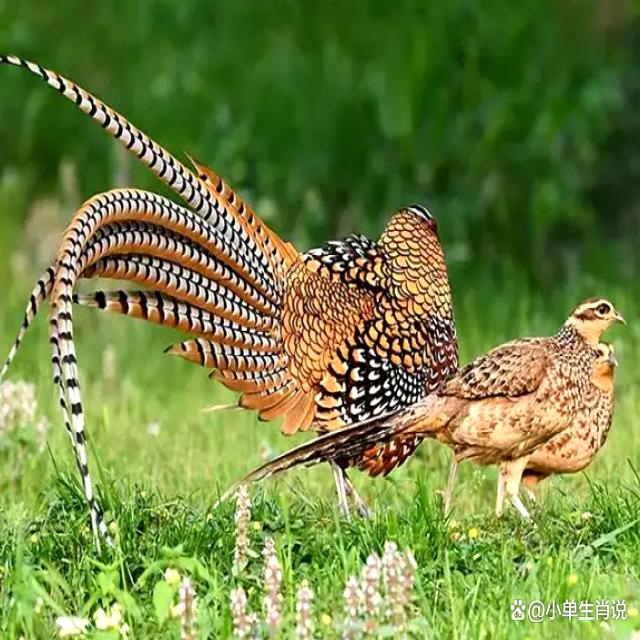Reeves-s Pheasant: (2, 56, 316, 553)
